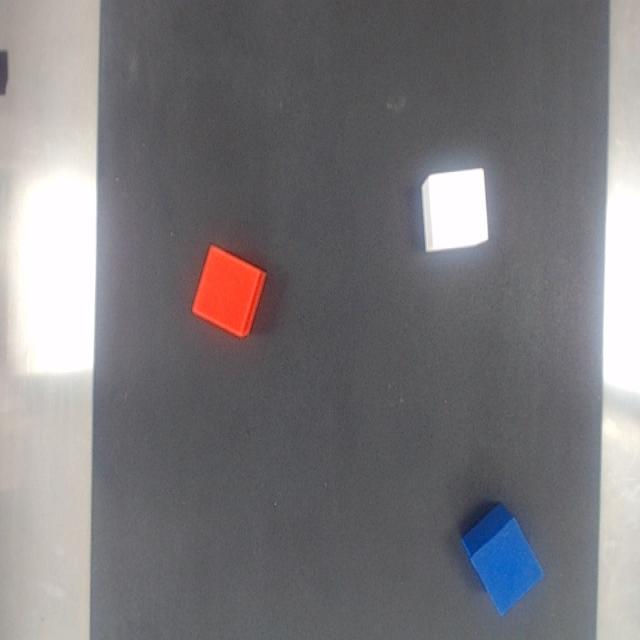Azul: (461, 504, 543, 615)
Blanco: (422, 168, 488, 252)
Rojo: (192, 245, 266, 337)
